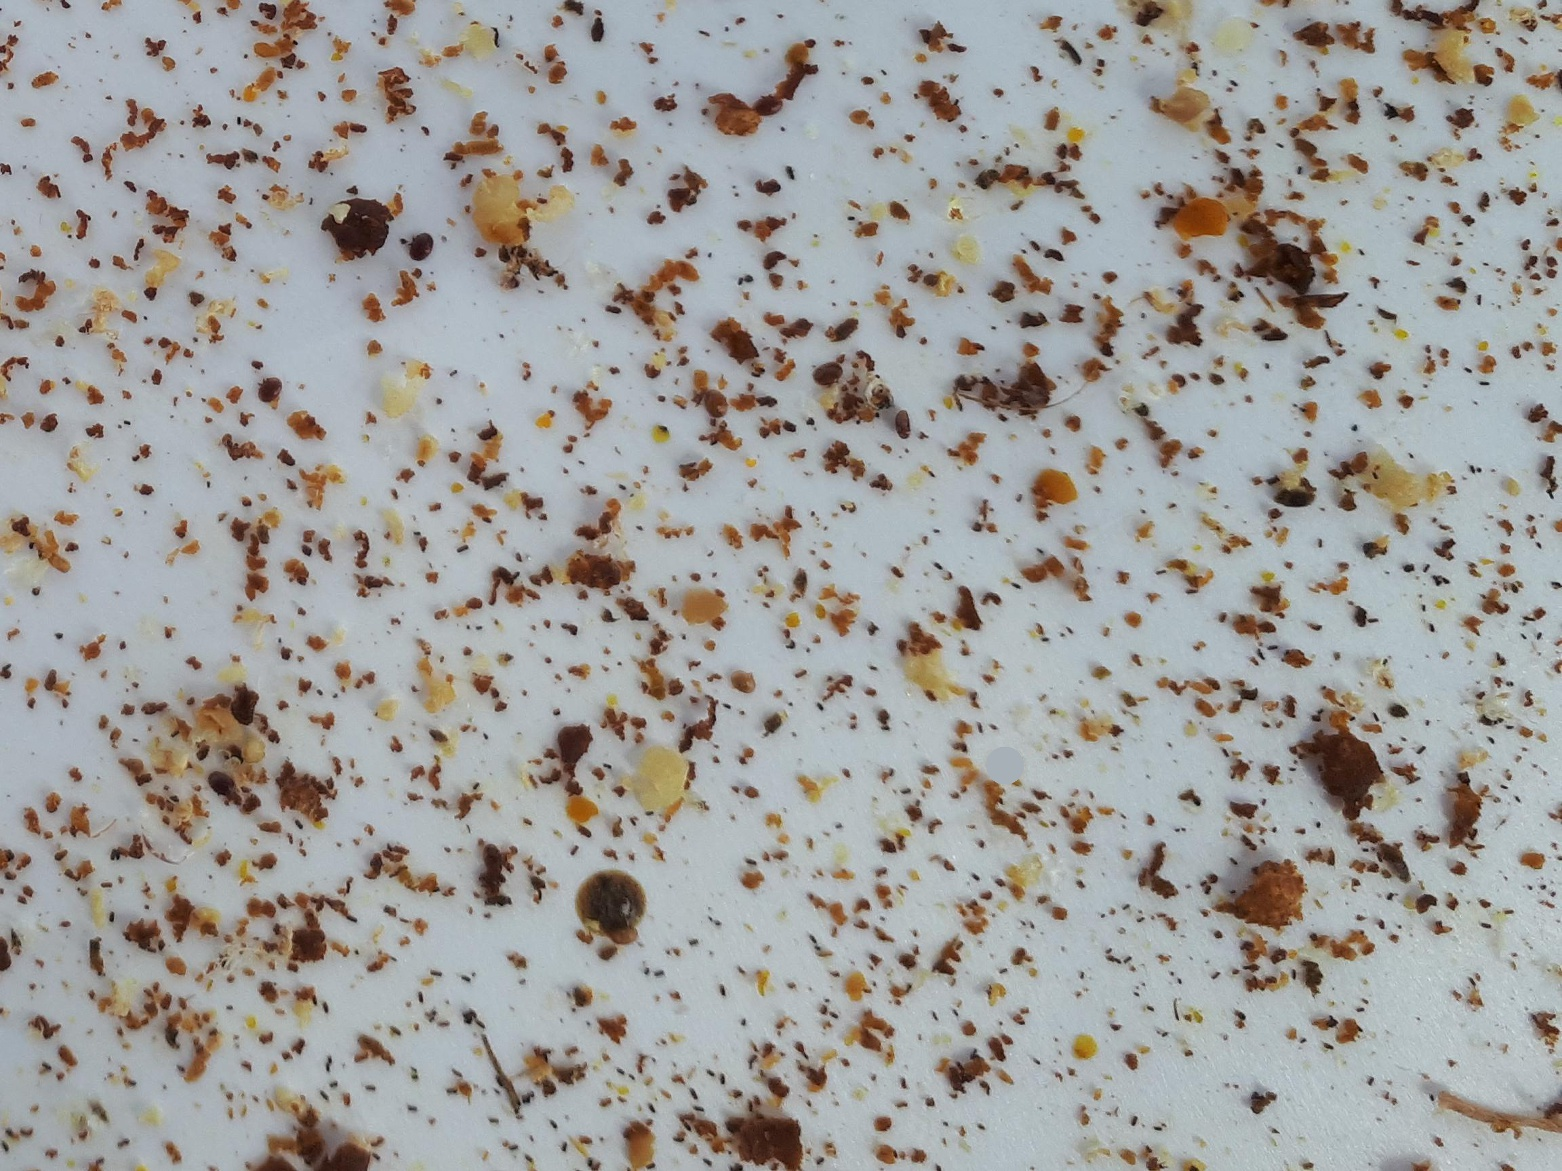Varroa: (208, 779, 248, 819), (400, 229, 438, 268), (724, 662, 763, 700), (749, 86, 786, 123), (697, 384, 734, 421), (811, 360, 846, 396), (251, 369, 285, 405)
